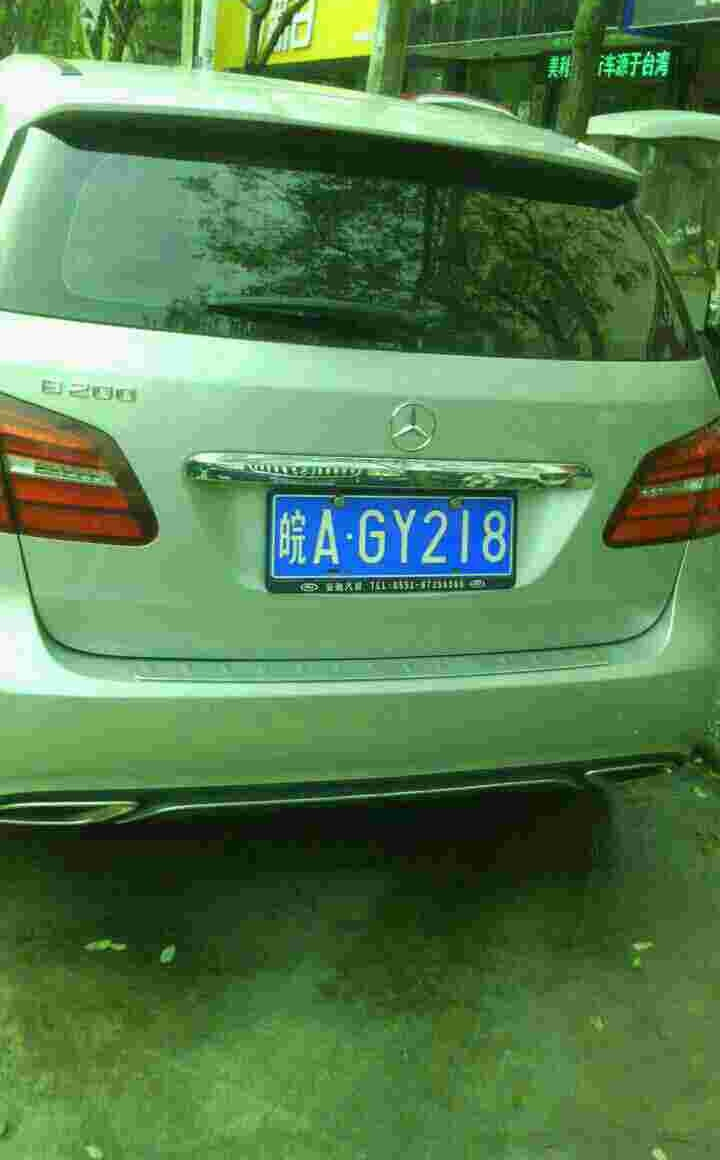plate: (276, 492, 524, 581)
